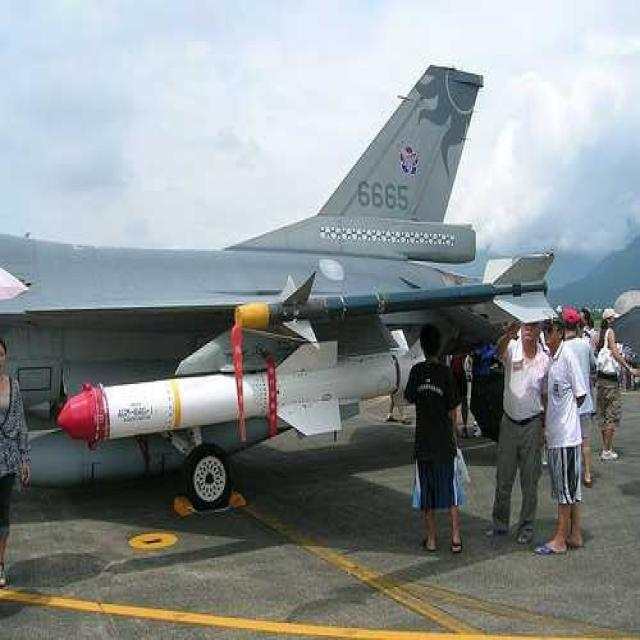missile: (53, 343, 440, 439), (230, 254, 560, 341)
